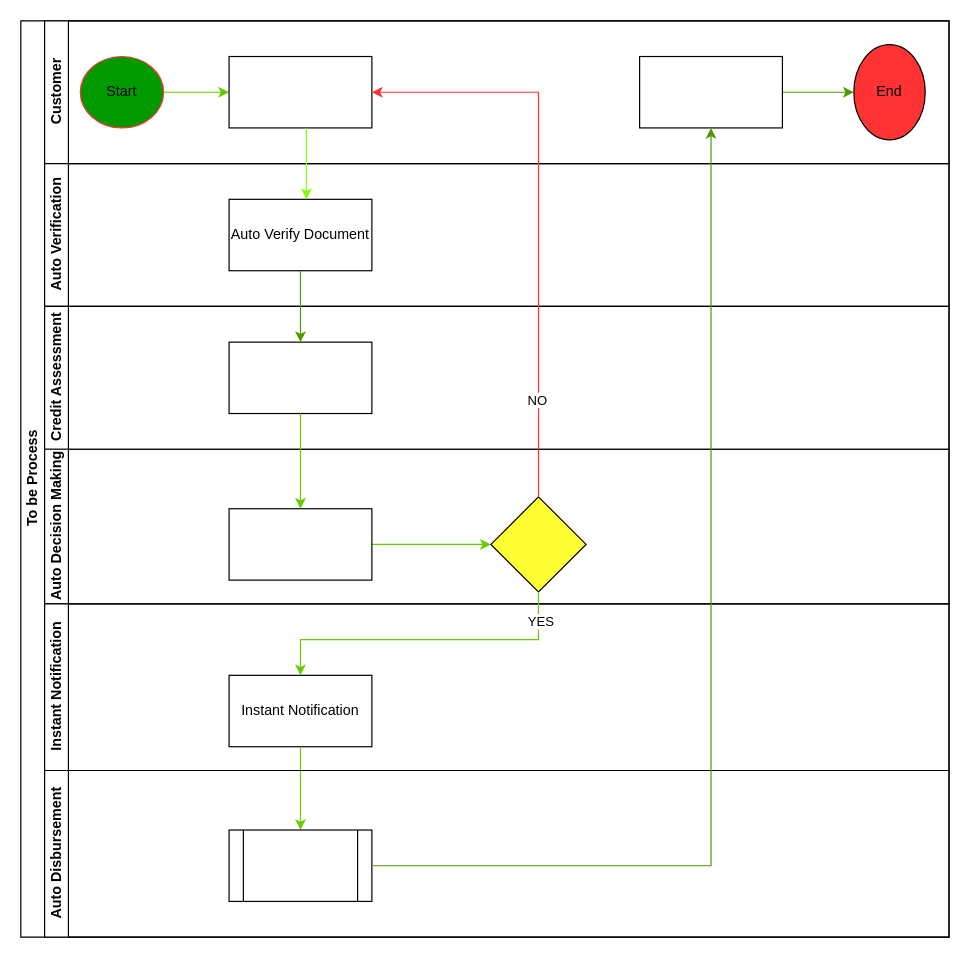
This 970x958 diagram has some shape labels left out. The shapes that lost their labels are listed below. From the top down, each one's centre as x and y in pixels, then its label:
[300,91]: Digital Application & Submission
[710,91]: Recieves Loan
[300,377]: Auto Credit Assesment
[300,544]: Automatic decision
[538,544]: Credit OK?
[300,865]: E-signature and Disbursement
